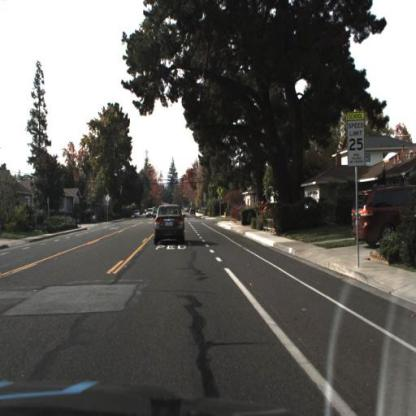car: (350, 183, 415, 254), (152, 204, 186, 245)
